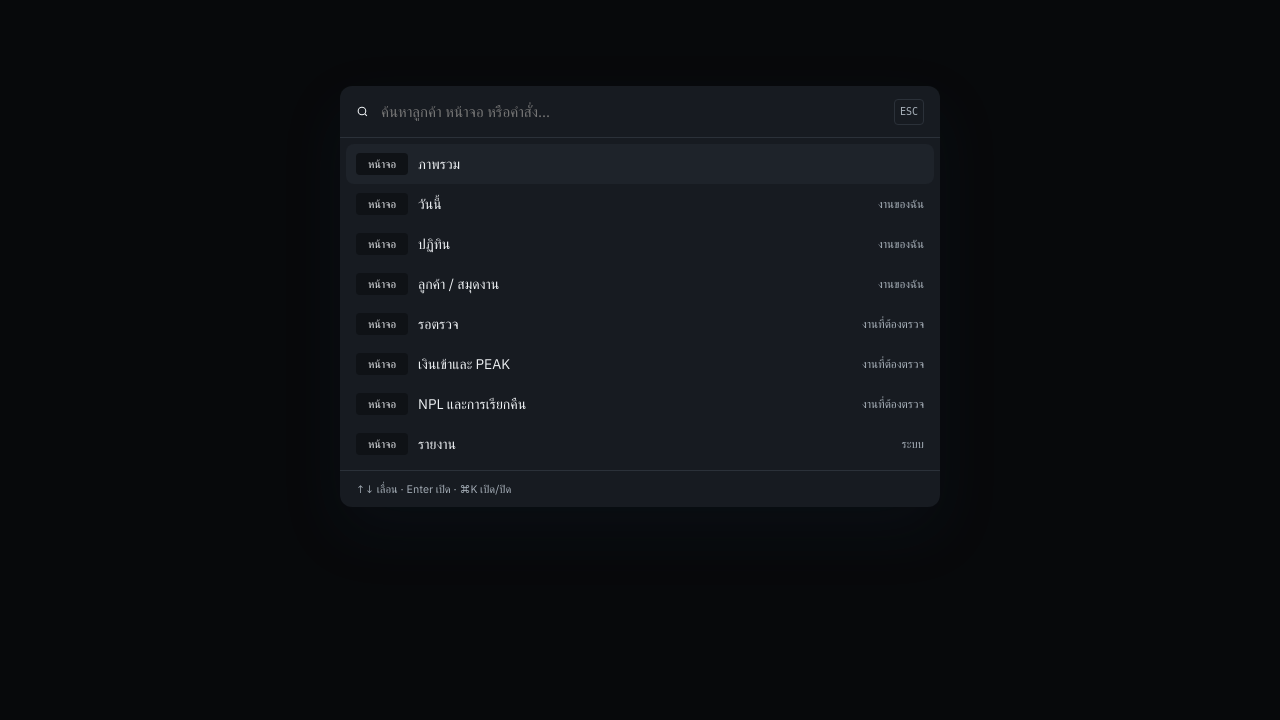
Scenario: the customer command palette › searches after one character and keeps a masked-field match visible
Type "4" into the field.
click(631, 112); type("4")  # box [379,101,884,122]
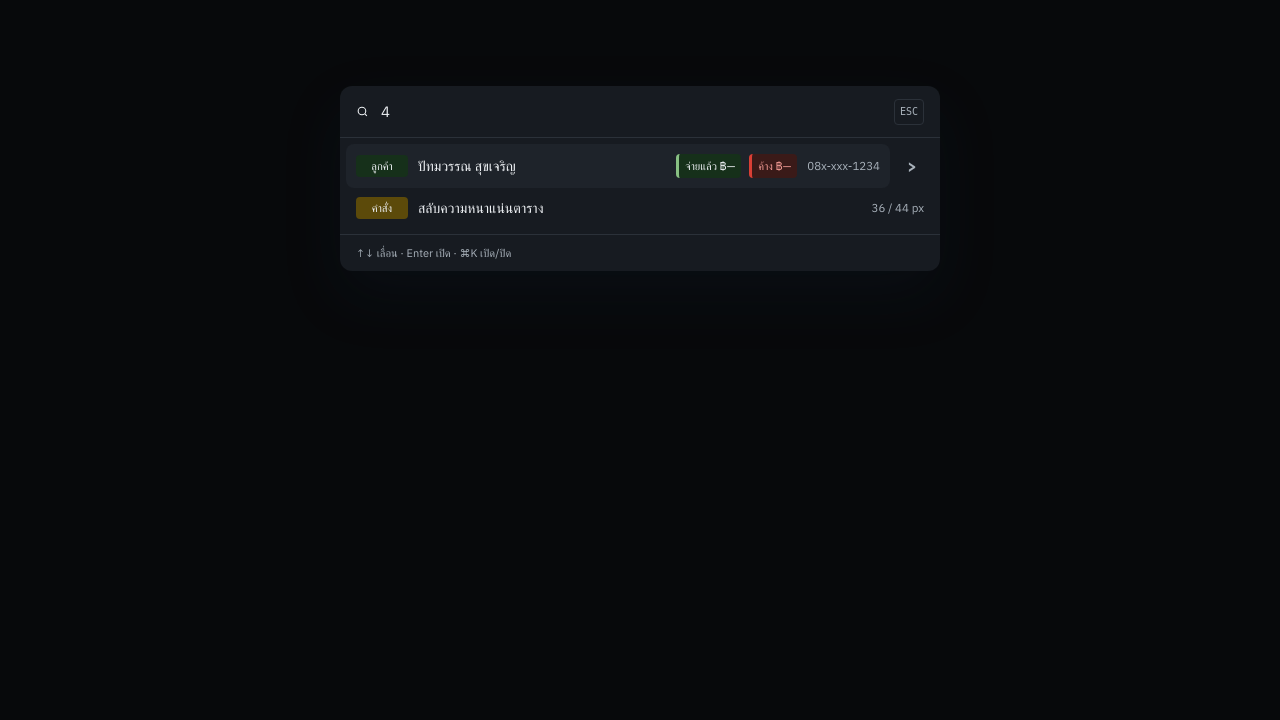
Result: the text "ปัทมวรรณ สุขเจริญ" is shown at [418,157,516,175]
Result: the text "08x-xxx-1234" is shown at [807,156,880,176]
